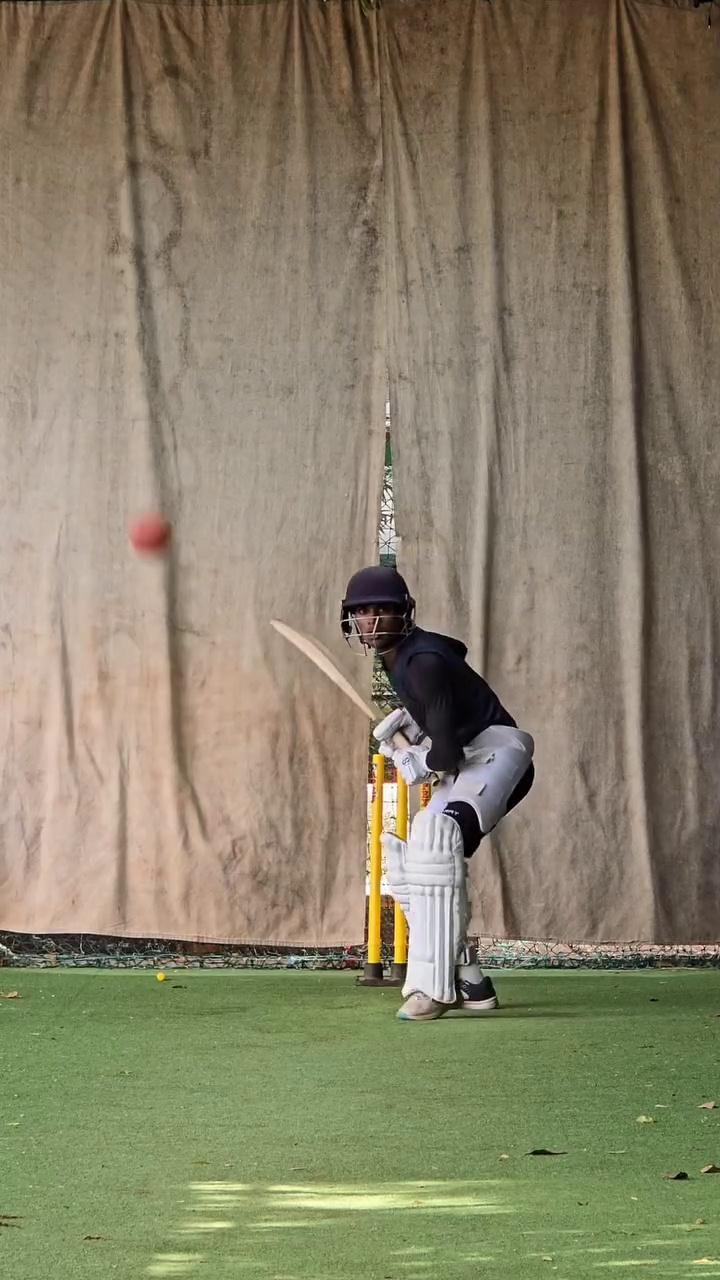bat: (267, 602, 386, 736)
